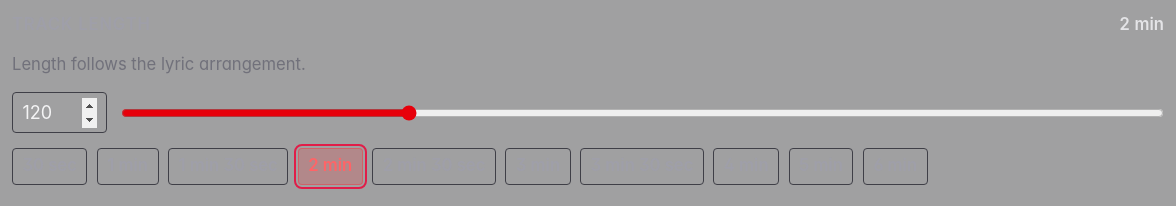
Test case: DurationSlider › calls setDuration from the human-labeled preset pills
Earlier steps of the test are not shown.
Expected: the number field named "Track Length (Seconds)" holds "120", [12,92,107,133]
Expected: the text "2 min" is shown, [1119,12,1164,38]
Step 1. Click the button "2 min 30 sec" → [434, 166], box [372,148,496,185]
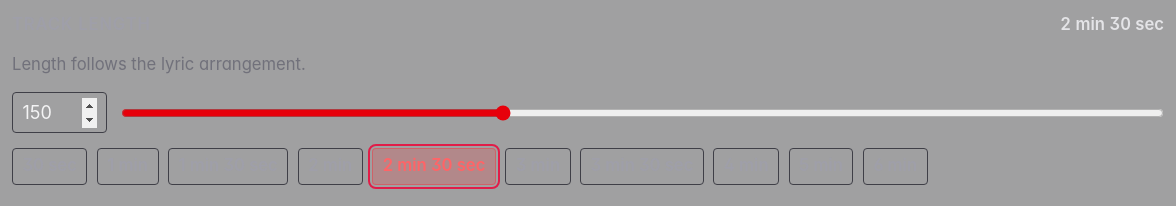
Now the number field named "Track Length (Seconds)" holds "150", box [12,92,107,133]
Now the text "2 min 30 sec" is shown, box [1060,12,1164,38]
Step 2. Click the button "3 min" → [538, 166], box [505,148,571,185]
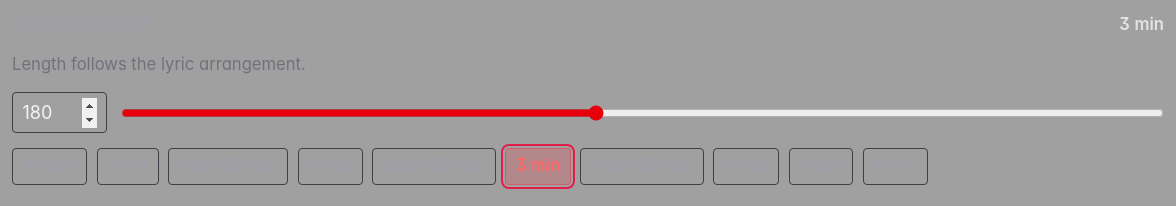
Now the number field named "Track Length (Seconds)" holds "180", box [12,92,107,133]
Now the text "3 min" is shown, box [1119,12,1164,38]
Step 3. Click the button "3 min 30 sec" → [642, 166], box [580,148,704,185]
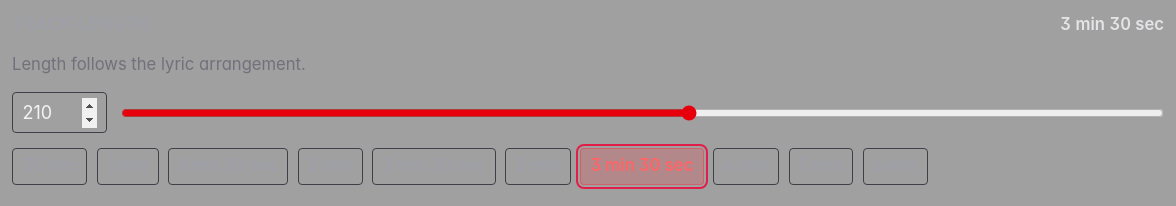
Now the number field named "Track Length (Seconds)" holds "210", box [12,92,107,133]
Now the text "3 min 30 sec" is shown, box [1060,12,1164,38]
Step 4. Click the button "4 min" → [746, 166], box [713,148,779,185]
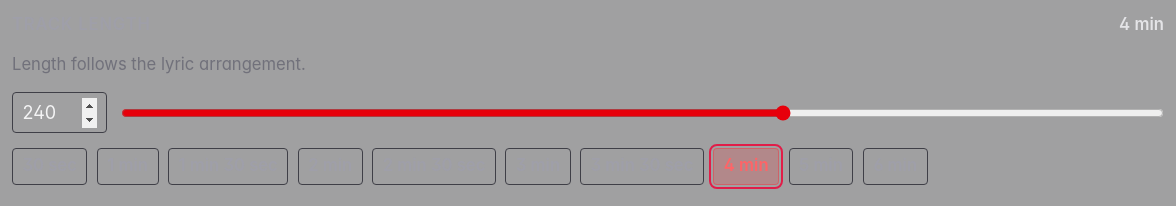
Now the number field named "Track Length (Seconds)" holds "240", box [12,92,107,133]
Now the text "4 min" is shown, box [1119,12,1164,38]
Step 5. Click the button "5 min" → [821, 166], box [789,148,853,185]
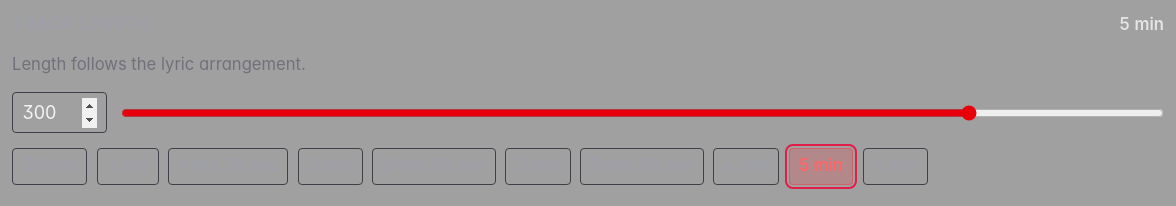
Now the number field named "Track Length (Seconds)" holds "300", box [12,92,107,133]
Now the text "5 min" is shown, box [1119,12,1164,38]
Step 6. Click the button "6 min" → [895, 166], box [863,148,928,185]
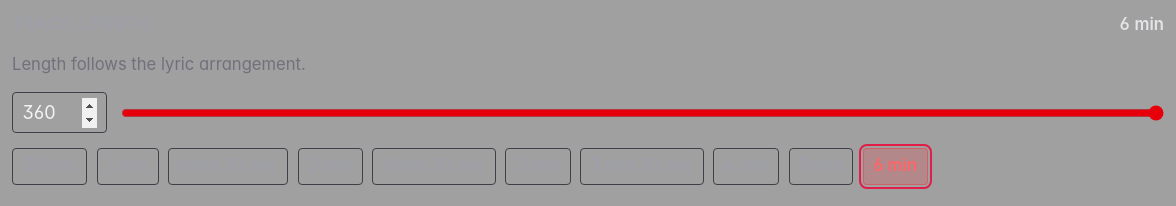
Now the number field named "Track Length (Seconds)" holds "360", box [12,92,107,133]
Now the text "6 min" is shown, box [1119,12,1164,38]
